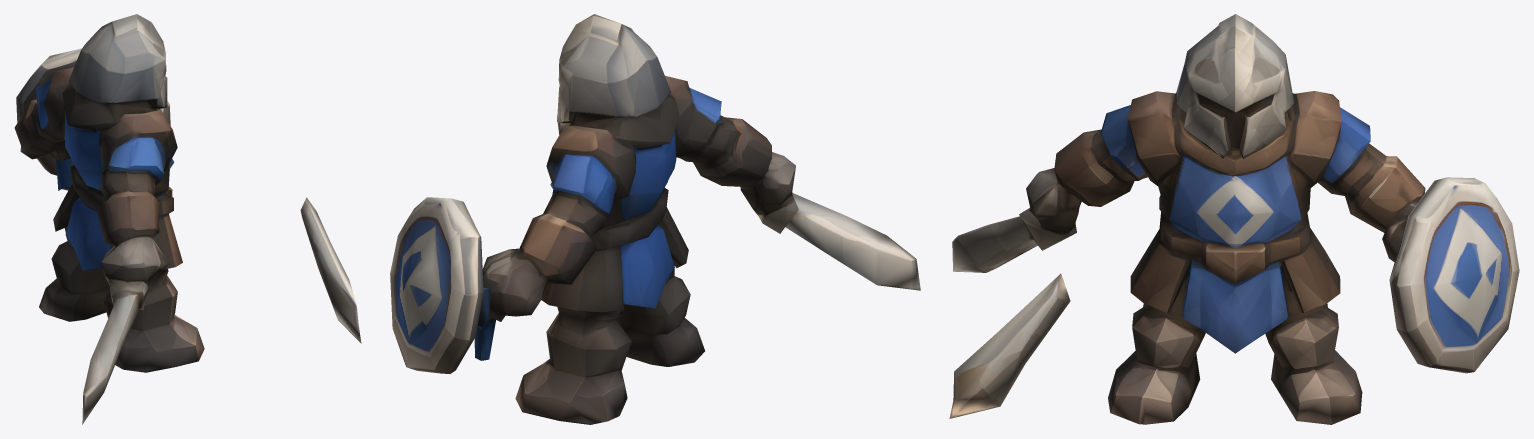
File: creep_melee.glb
3 renders of one model, left to right at view 1: azimuth 30°, elevation 25°; view 2: azimuth 150°, elevation 25°; view 3: azimuth 270°, elevation 25°, orthographic. The views are drawn at different scales.
Visible parts, largest first — view 1: tripo_node_dffbff48-7b9c-482d-a603-1f0a3ad06065; view 2: tripo_node_dffbff48-7b9c-482d-a603-1f0a3ad06065; view 3: tripo_node_dffbff48-7b9c-482d-a603-1f0a3ad06065.
Part boxes in pixels (left/top/right/bottom): tripo_node_dffbff48-7b9c-482d-a603-1f0a3ad06065: left=14, top=14, right=361, bottom=424; tripo_node_dffbff48-7b9c-482d-a603-1f0a3ad06065: left=390, top=14, right=920, bottom=424; tripo_node_dffbff48-7b9c-482d-a603-1f0a3ad06065: left=949, top=14, right=1519, bottom=424.
Size of the model in its own units: 0.7025 by 0.745 by 1.01.
Materials: 1 (1 with a texture image).
